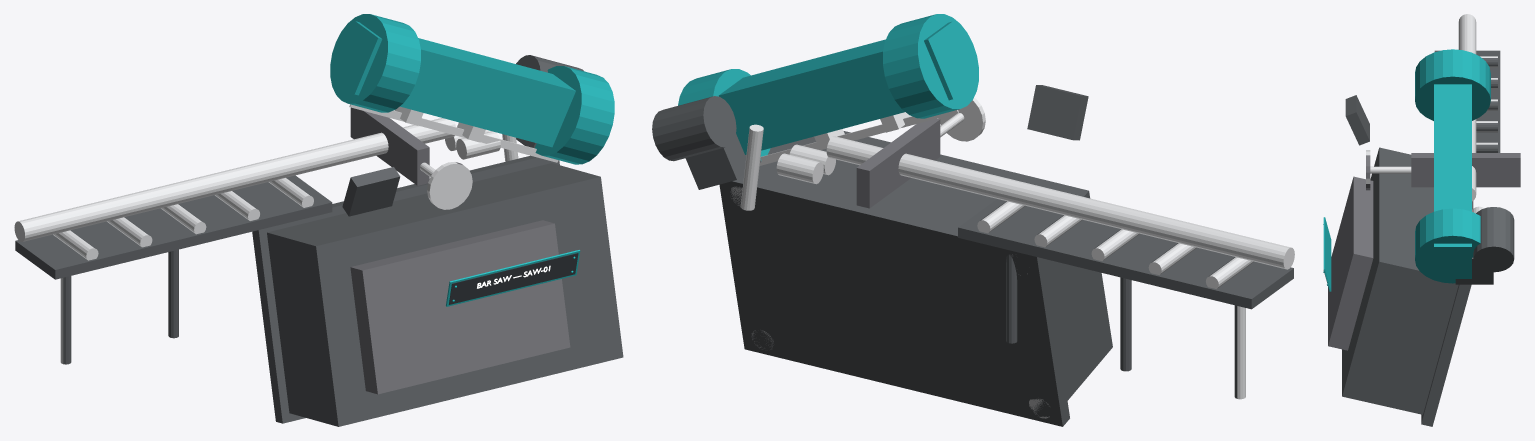
File: saw_01.glb
3 views of the same model, side by side, from view 1: azimuth 30°, elevation 25°; view 2: azimuth 150°, elevation 25°; view 3: azimuth 270°, elevation 25° (orthographic). The views are drawn at different scales.
Visible parts, largest first — view 1: SAW_Base_and_Bed, SAW_Pivoting_Bow, SAW_Infeed_Rollers, SAW_Workpiece_Stock, SAW_Vise_Jaw, Plaque_SAW_01_Plate, SAW_Control_Pedestal, Plaque_SAW_01_Trim; view 2: SAW_Base_and_Bed, SAW_Pivoting_Bow, SAW_Infeed_Rollers, SAW_Workpiece_Stock, SAW_Vise_Jaw, SAW_Control_Pedestal; view 3: SAW_Base_and_Bed, SAW_Pivoting_Bow, SAW_Vise_Jaw, SAW_Infeed_Rollers, SAW_Workpiece_Stock, SAW_Control_Pedestal, Plaque_SAW_01_Trim.
Part boxes in pixels (<box>): SAW_Base_and_Bed: <box>252,155,623,426</box>; SAW_Pivoting_Bow: <box>330,14,614,164</box>; SAW_Infeed_Rollers: <box>15,175,332,364</box>; SAW_Workpiece_Stock: <box>14,118,500,241</box>; SAW_Vise_Jaw: <box>350,107,472,209</box>; Plaque_SAW_01_Plate: <box>449,253,578,304</box>; SAW_Control_Pedestal: <box>342,167,400,216</box>; Plaque_SAW_01_Trim: <box>446,250,580,306</box>; SAW_Base_and_Bed: <box>719,131,1112,426</box>; SAW_Pivoting_Bow: <box>652,14,978,210</box>; SAW_Infeed_Rollers: <box>958,199,1293,399</box>; SAW_Workpiece_Stock: <box>776,136,1294,269</box>; SAW_Vise_Jaw: <box>856,97,985,208</box>; SAW_Control_Pedestal: <box>1027,85,1088,140</box>; SAW_Base_and_Bed: <box>1328,147,1473,426</box>; SAW_Pivoting_Bow: <box>1415,49,1514,284</box>; SAW_Vise_Jaw: <box>1366,150,1520,190</box>; SAW_Infeed_Rollers: <box>1434,50,1500,152</box>; SAW_Workpiece_Stock: <box>1458,14,1484,213</box>; SAW_Control_Pedestal: <box>1345,95,1369,145</box>; Plaque_SAW_01_Trim: <box>1323,217,1331,291</box>.
Bounding box in the file's own units: 3.76 × 2.28 × 1.35.
